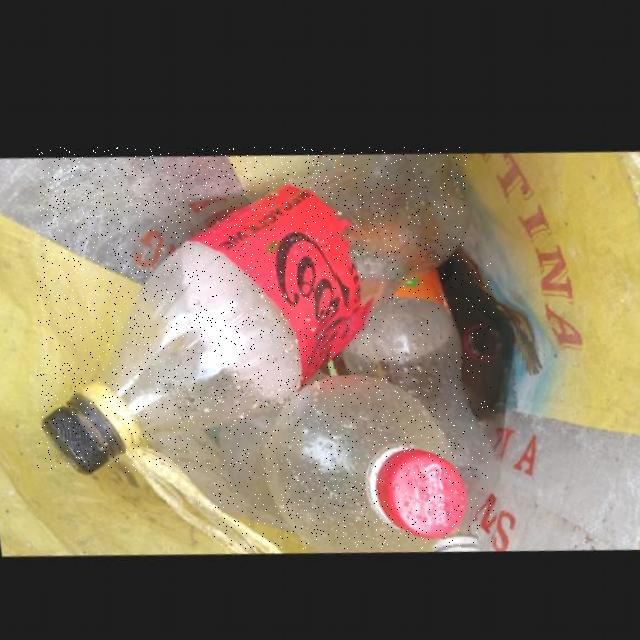plastic: (37, 148, 468, 473), (337, 263, 494, 546), (214, 370, 461, 549)
